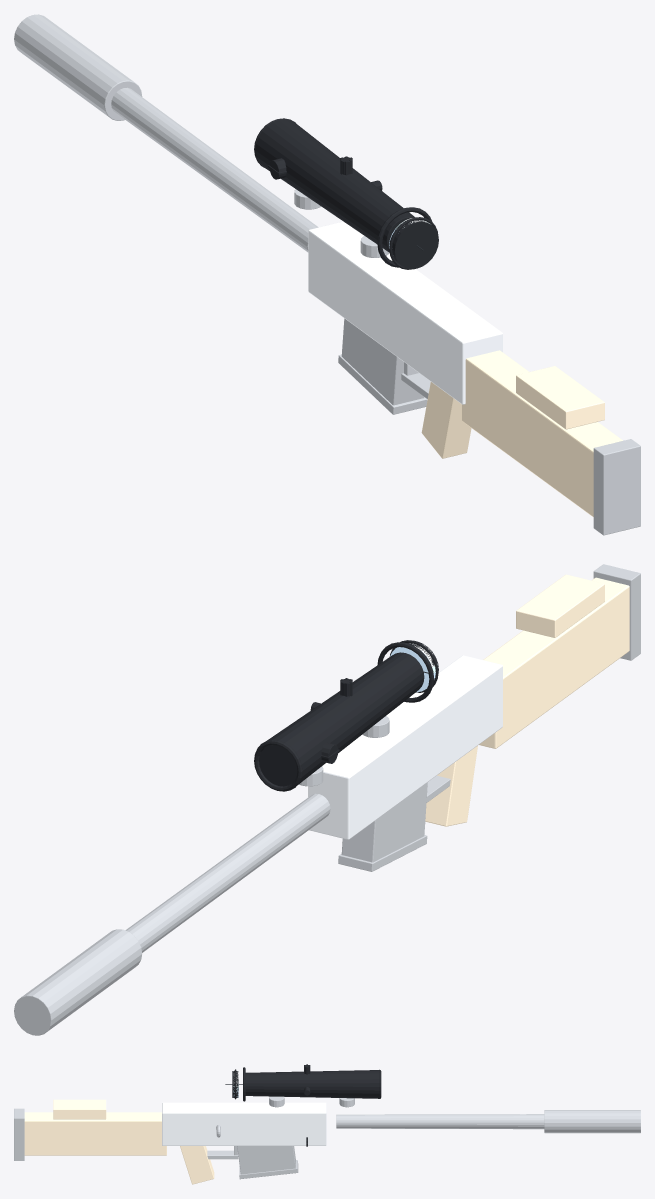
3 views of the same model, one above another, from view 1: azimuth 30°, elevation 25°; view 2: azimuth 150°, elevation 25°; view 3: azimuth 270°, elevation 25° (orthographic). The views are drawn at different scales.
Parts seen in each view (by area): view 1: Receiver, Stock, ScopeTubeBody, Barrel, Suppressor, ButtPad, mag, CheekRest, Grip, ScopeLensBlack; view 2: Receiver, Stock, ScopeTubeBody, Barrel, Suppressor, mag, CheekRest, Grip, ButtPad, ScopeMounts; view 3: Receiver, Stock, ScopeTubeBody, Barrel, Suppressor, mag, CheekRest, Grip, ButtPad, ScopeMounts, TriggerGuardTop.
Boxes of the visible parts, x1,y1,x2,y2 form: Receiver: [308, 221, 502, 404]; Stock: [461, 350, 622, 516]; ScopeTubeBody: [254, 118, 432, 267]; Barrel: [111, 87, 318, 252]; Suppressor: [14, 14, 142, 120]; ButtPad: [593, 439, 640, 535]; mag: [338, 318, 427, 414]; CheekRest: [516, 366, 604, 429]; Grip: [421, 382, 471, 458]; ScopeLensBlack: [389, 220, 438, 269]; Receiver: [308, 655, 502, 839]; Stock: [479, 577, 629, 748]; ScopeTubeBody: [254, 642, 434, 791]; Barrel: [125, 793, 330, 952]; Suppressor: [14, 929, 142, 1035]; mag: [338, 782, 427, 871]; CheekRest: [516, 574, 604, 637]; Grip: [425, 745, 477, 826]; ButtPad: [593, 564, 640, 660]; ScopeMounts: [299, 716, 389, 786]; Receiver: [162, 1102, 326, 1145]; Stock: [24, 1112, 166, 1155]; ScopeTubeBody: [243, 1064, 381, 1146]; Barrel: [336, 1114, 544, 1129]; Suppressor: [544, 1110, 640, 1133]; mag: [237, 1146, 298, 1179]; CheekRest: [53, 1099, 106, 1119]; Grip: [180, 1146, 214, 1184]; ButtPad: [14, 1108, 24, 1160]; ScopeMounts: [269, 1096, 354, 1107]; TriggerGuardTop: [207, 1150, 238, 1159].
Size of the model in its own units: 0.0913 by 0.264 by 1.3.
